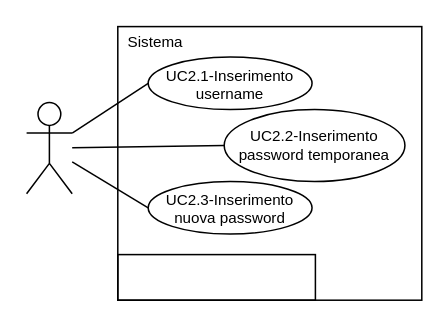
This 448x327 diagram has some shape labels left out. Here are the shapes that lost their labels. From the top down, the centre of each, then its label:
At (48,147): "Utente".
At (215,276): "UC2-Autenticazione con cambio password".
